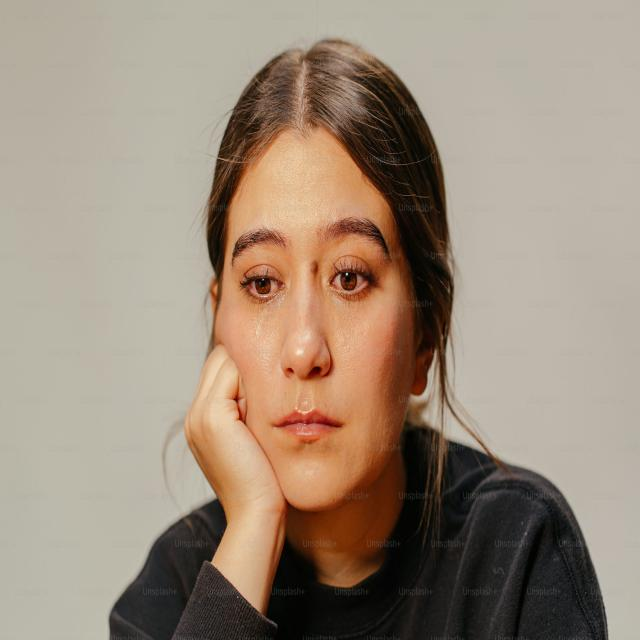sem_oculos: (196, 209, 429, 324)
